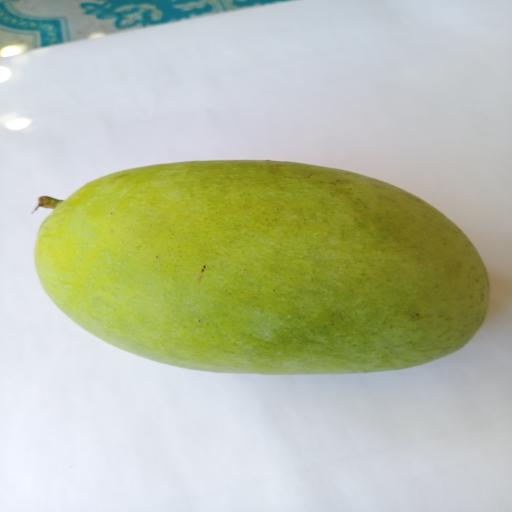mango-unripe: (18, 150, 502, 386)
